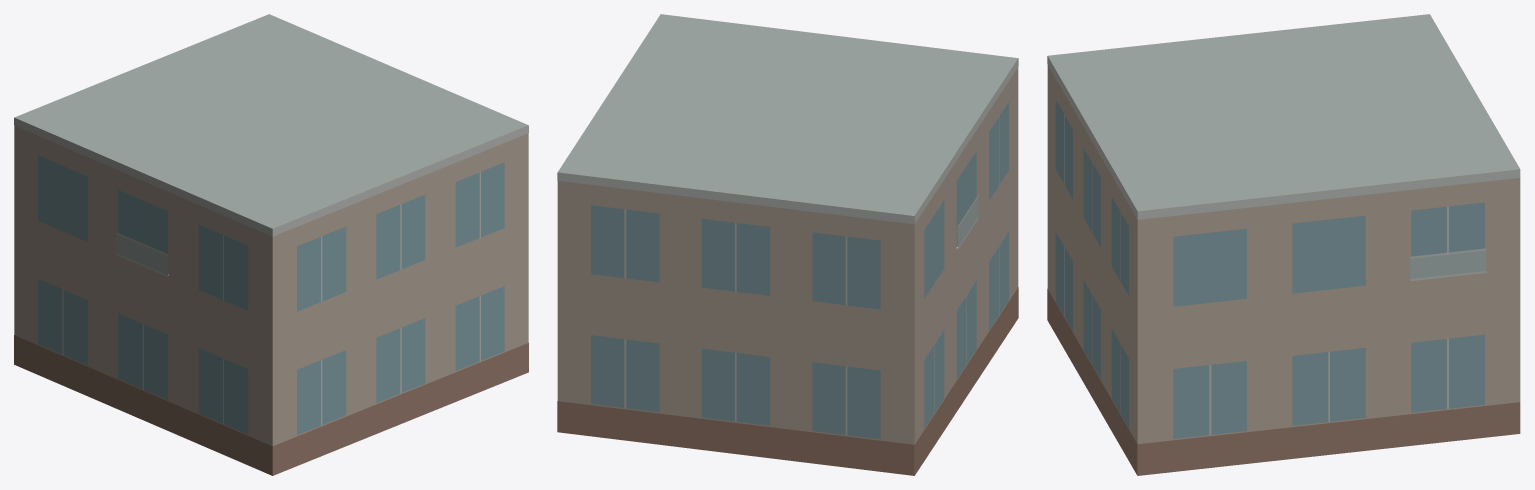
File: survey-upis-32500125.glb
3 views of the same model, side by side, from view 1: azimuth 30°, elevation 25°; view 2: azimuth 150°, elevation 25°; view 3: azimuth 270°, elevation 25° (orthographic). The views are drawn at different scales.
Visible parts, largest first — view 1: survey-upis-32500125.tmp; view 2: survey-upis-32500125.tmp; view 3: survey-upis-32500125.tmp.
Boxes of the visible parts, x1=… form: survey-upis-32500125.tmp: x1=14, y1=14, x2=528, y2=475; survey-upis-32500125.tmp: x1=557, y1=14, x2=1018, y2=475; survey-upis-32500125.tmp: x1=1047, y1=14, x2=1520, y2=475.
Size of the model in its own units: 12.18 by 7.6 by 12.33.
